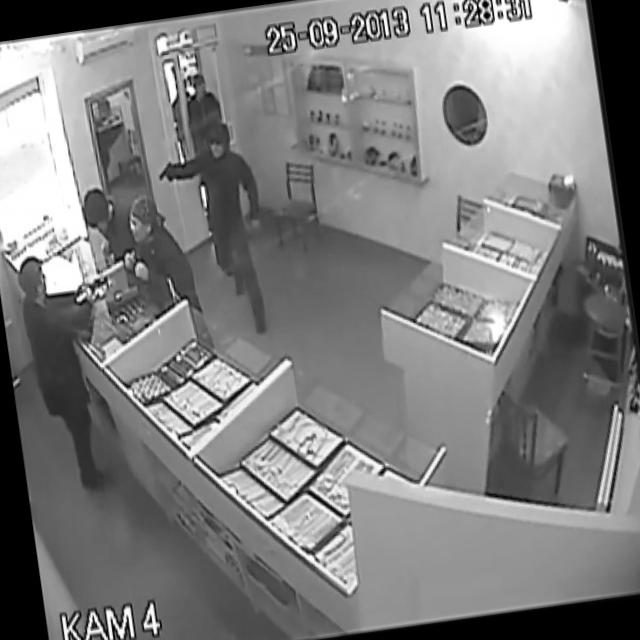gun: (150, 152, 191, 198)
person: (4, 238, 117, 507), (122, 182, 190, 308), (61, 160, 136, 267), (176, 64, 236, 124)
person with a gun: (149, 103, 302, 354)
